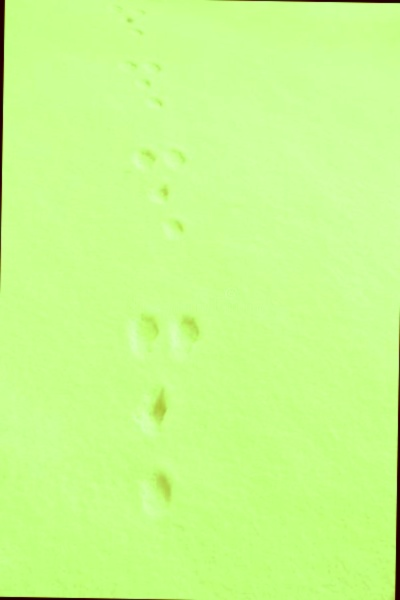lapin: (111, 52, 183, 115), (124, 376, 175, 447), (130, 457, 181, 518), (117, 303, 162, 367), (91, 0, 158, 42), (162, 303, 208, 364), (126, 141, 160, 173), (147, 179, 177, 212), (161, 140, 189, 173), (157, 216, 192, 242)
